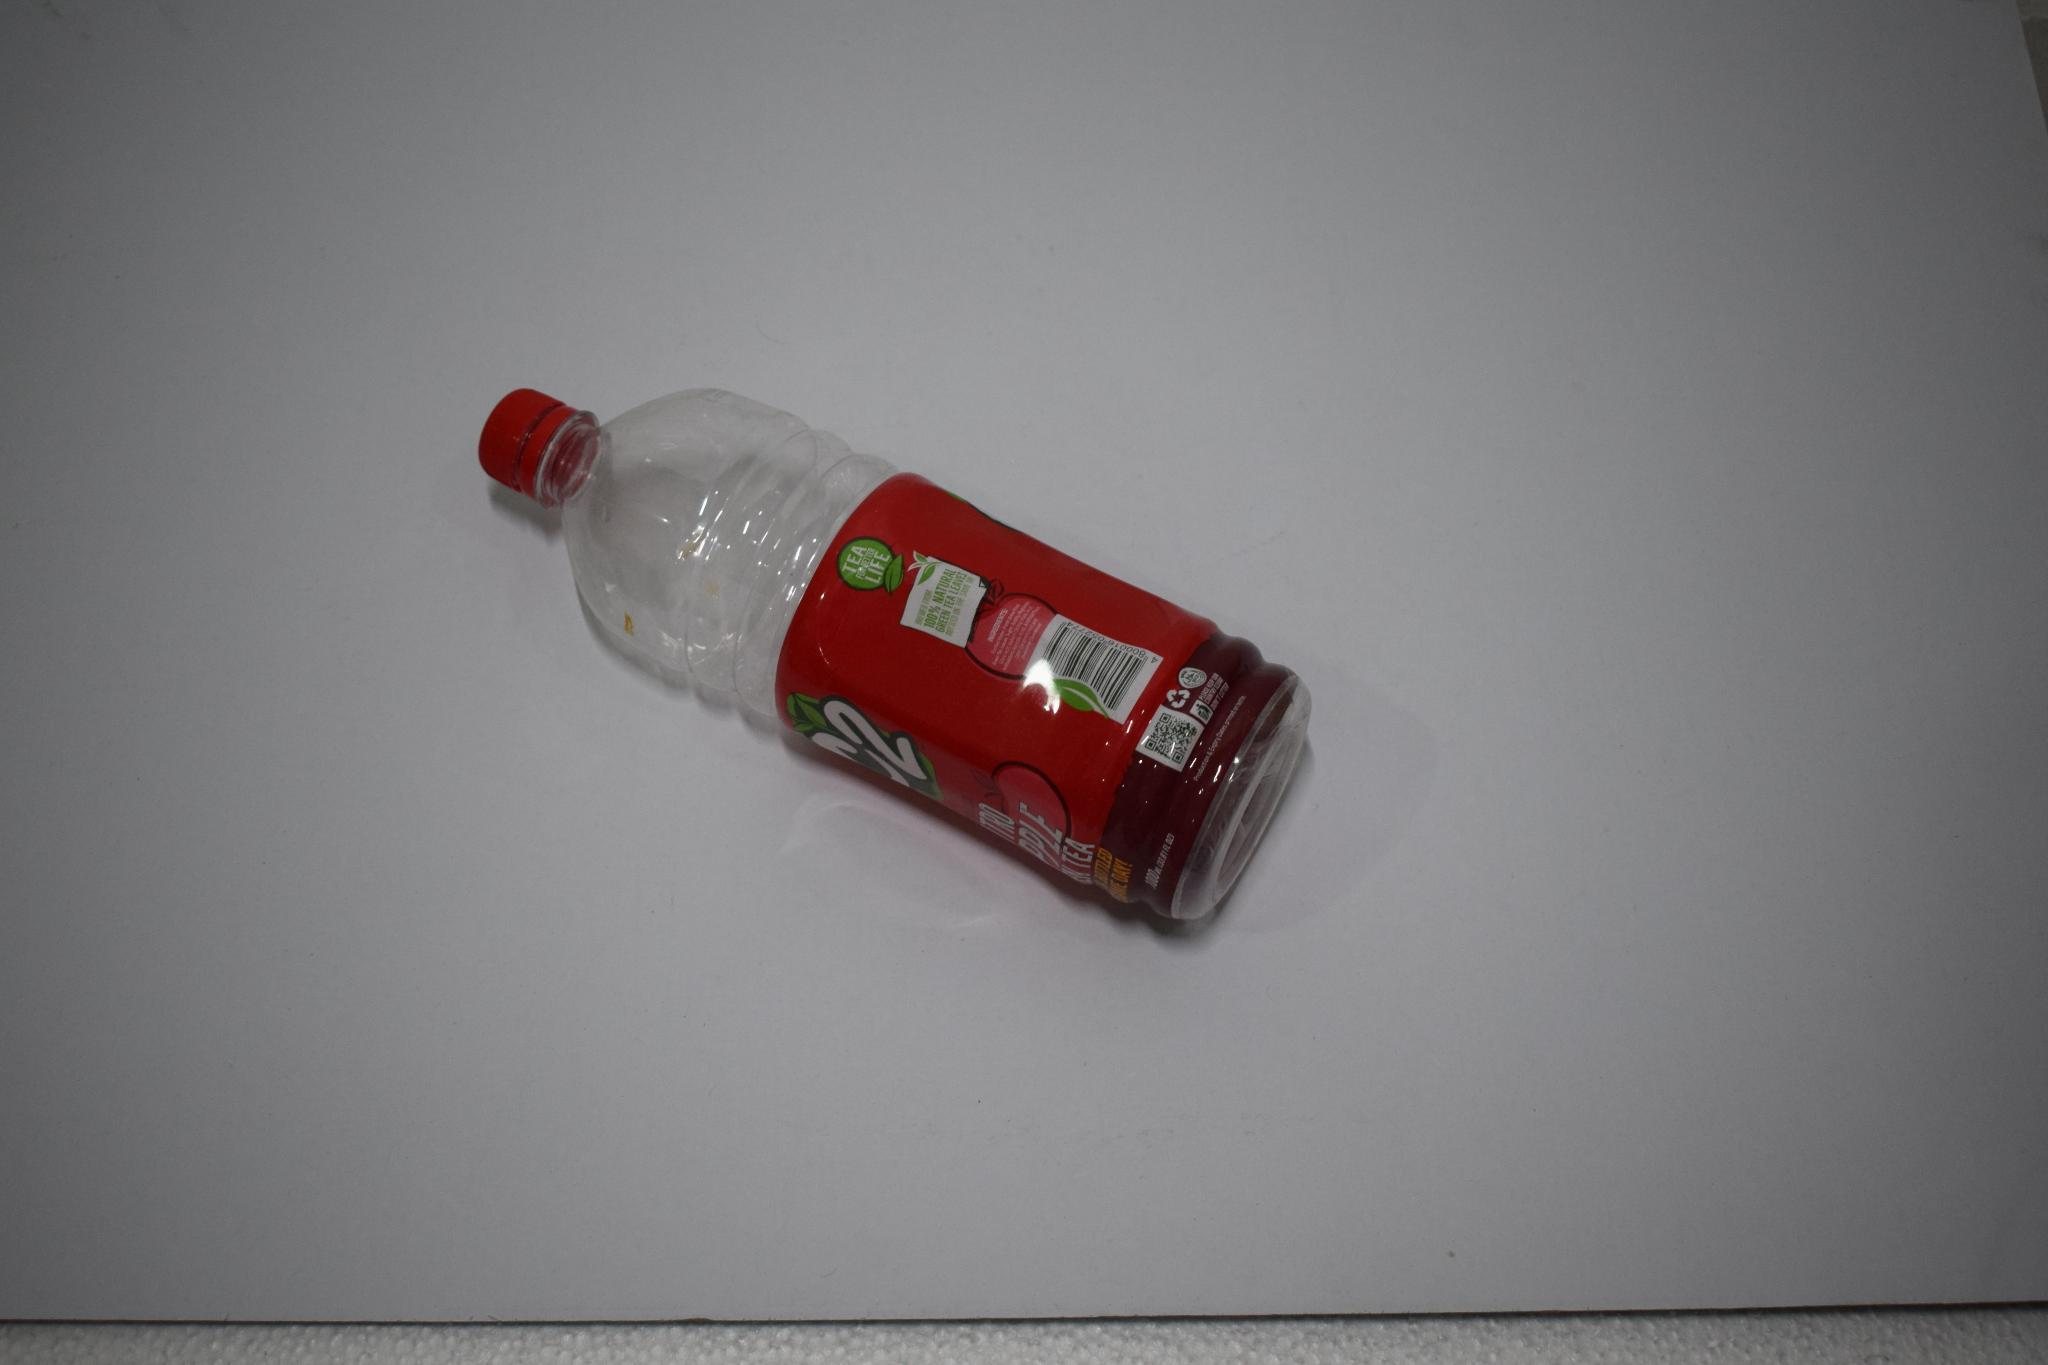bottle: (474, 378, 1317, 925)
